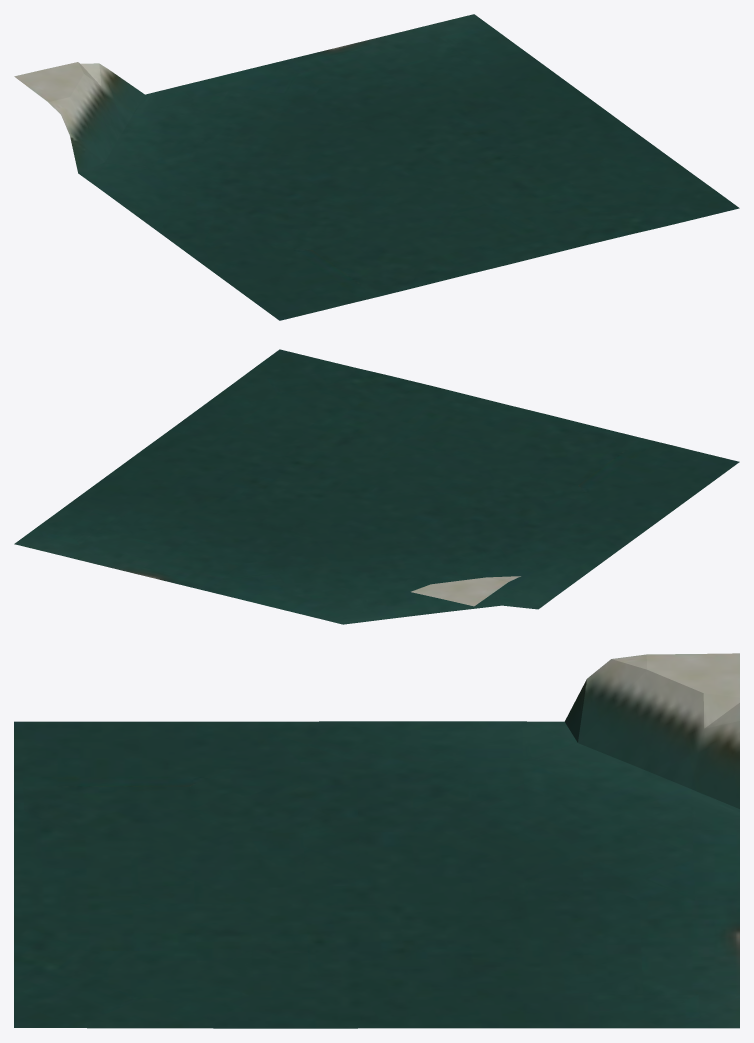
3 renders of one model, top to bottom at view 1: azimuth 30°, elevation 25°; view 2: azimuth 150°, elevation 25°; view 3: azimuth 270°, elevation 25°, orthographic. The views are drawn at different scales.
Bounding box in the file's own units: 52.22 × 5.45 × 52.22.
Materials: 3 (3 with a texture image).
